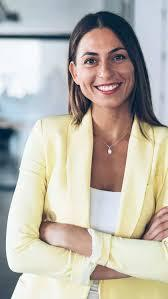person: (61, 3, 159, 125)
